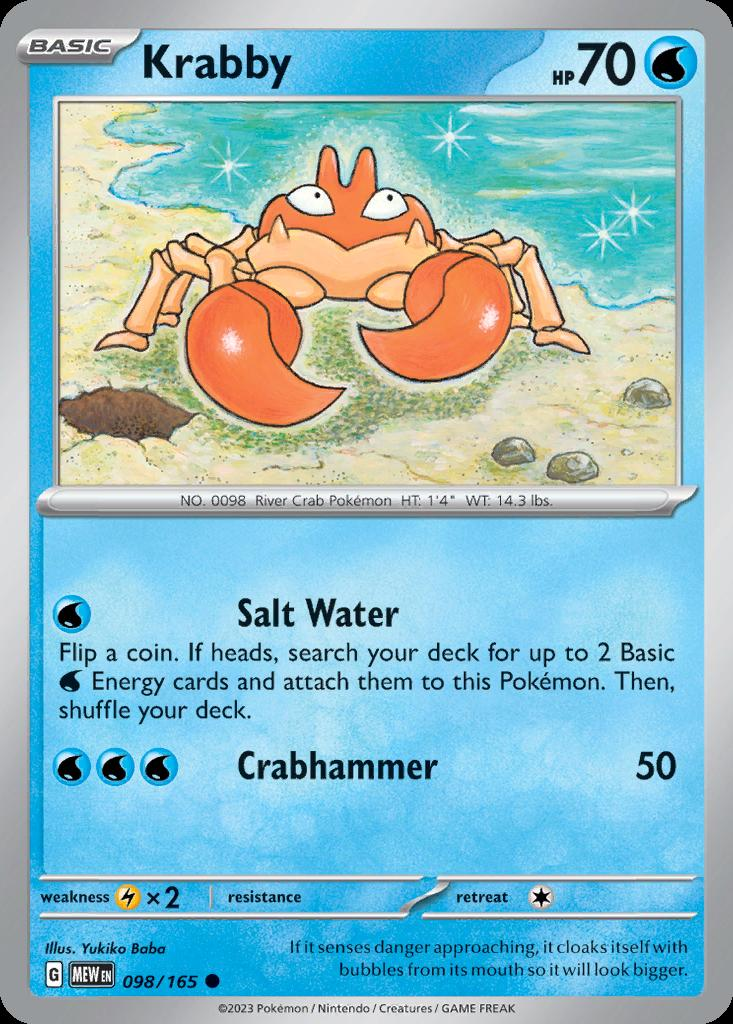card: (6, 0, 731, 1024)
hp: (539, 30, 701, 94)
name: (139, 34, 311, 94)
set num: (120, 964, 206, 997)
set symbol: (44, 963, 123, 997)
